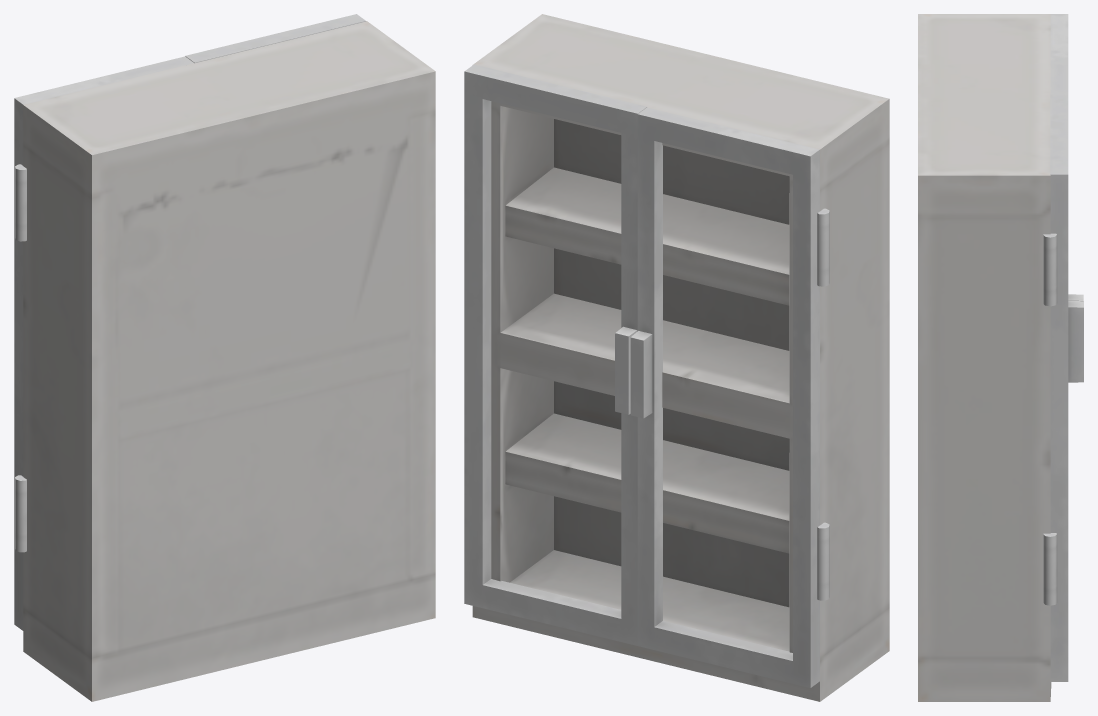
File: Pfb_Indoors_Study_Shelf_JLAB04__6.fbx
3 renders of one model, left to right at view 1: azimuth 30°, elevation 25°; view 2: azimuth 150°, elevation 25°; view 3: azimuth 270°, elevation 25°, orthographic. The views are drawn at different scales.
Visible parts, largest first — view 1: Mat_Indoors_Study_01_2_JLAB, MAT_Shop_Refridge_01_3 1; view 2: Mat_Indoors_Study_01_2_JLAB, MAT_Shop_Refridge_01_3 1; view 3: Mat_Indoors_Study_01_2_JLAB, MAT_Shop_Refridge_01_3 1.
Boxes of the visible parts, box(x1,y1,x2,y2) form: Mat_Indoors_Study_01_2_JLAB: box(23, 21, 435, 701); MAT_Shop_Refridge_01_3 1: box(14, 14, 365, 630); Mat_Indoors_Study_01_2_JLAB: box(472, 14, 889, 701); MAT_Shop_Refridge_01_3 1: box(464, 64, 829, 687); Mat_Indoors_Study_01_2_JLAB: box(918, 14, 1051, 701); MAT_Shop_Refridge_01_3 1: box(1043, 14, 1083, 681).
Size of the model in its own units: 1.84 by 2.69 by 0.7657.
Materials: 2 (2 with a texture image).
